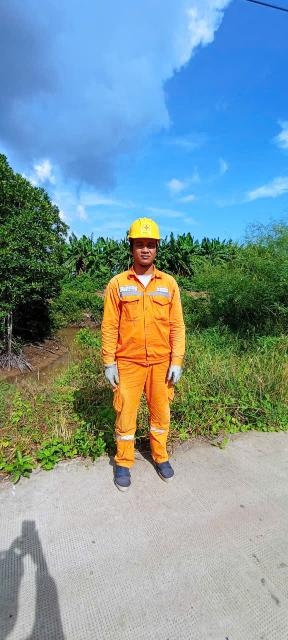gloves: (96, 354, 126, 390), (156, 366, 186, 386)
helmet: (122, 211, 165, 248)
shoes: (105, 459, 139, 490), (146, 455, 177, 483)
